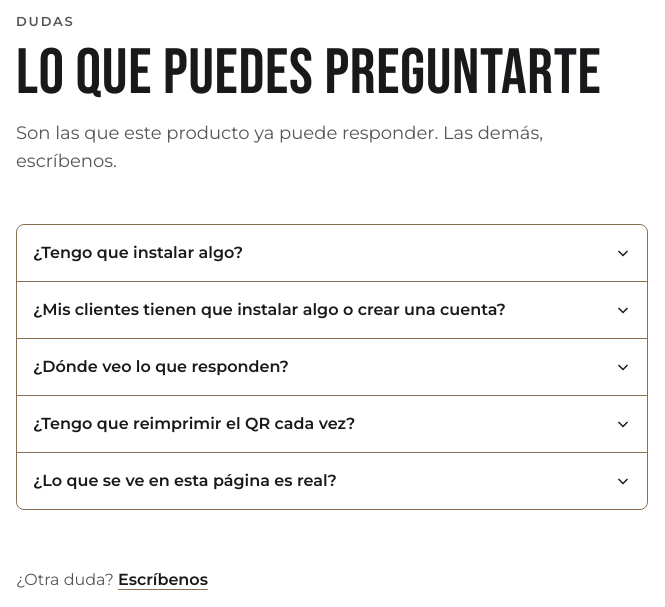
Test case: Faqs › clicking button 1 opens it: aria-expanded='true' and panel visible with exact text in role=region
Click the button "¿Tengo que instalar algo?": (138, 253) [17,225,647,281]
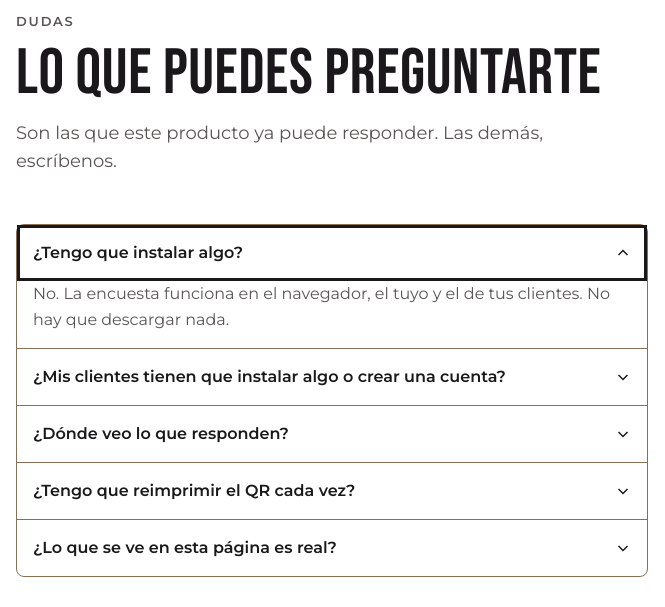
Result: the button "¿Tengo que instalar algo?" is expanded at [17,225,647,281]
Result: the element named "¿Tengo que instalar algo?" is shown at [17,281,647,348]
Result: the element named "¿Tengo que instalar algo?" shows "No. La encuesta funciona en el navegador, el tuyo y el de tus clientes. No hay que descargar nada." at [33,284,610,329]
